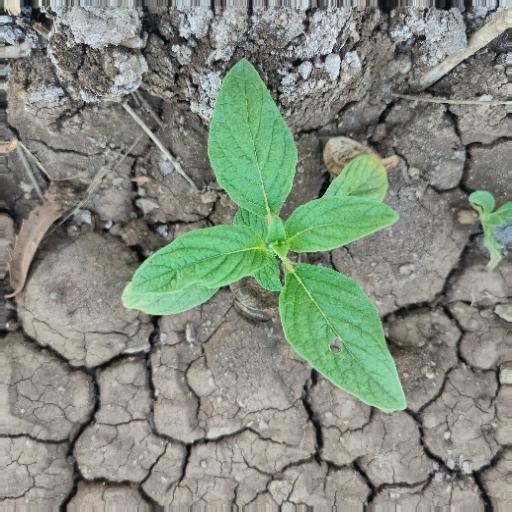crop: (119, 58, 413, 418)
